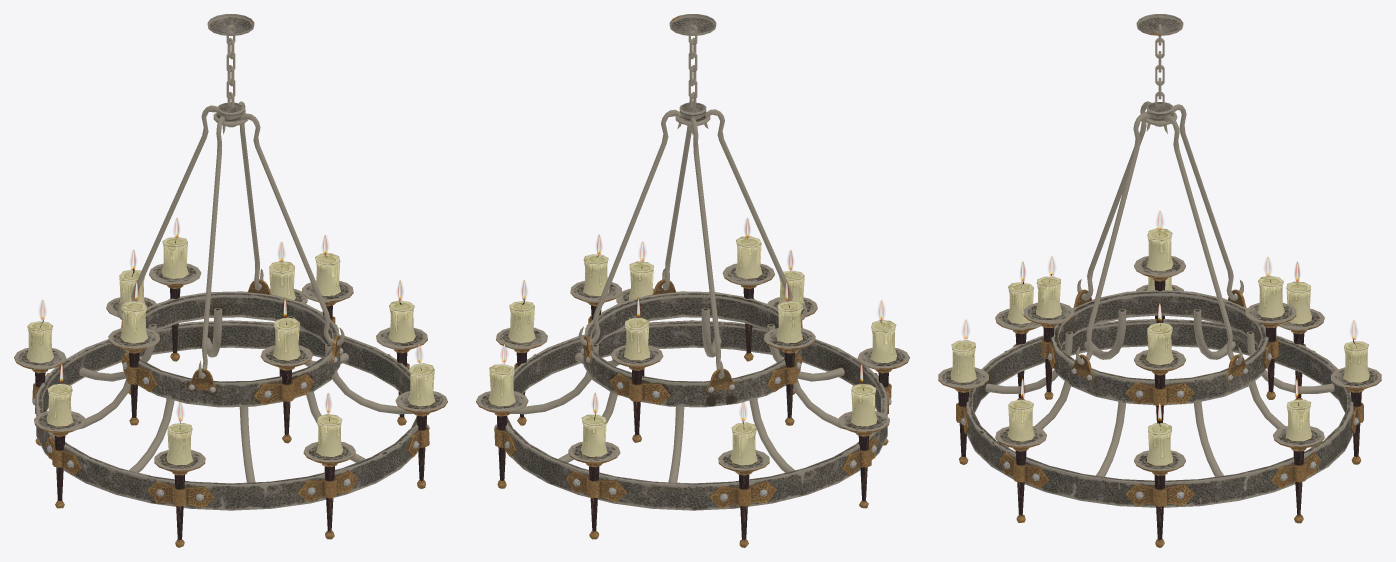
The model's file is chandelier.glb.
3 renders of one model, left to right at view 1: azimuth 30°, elevation 25°; view 2: azimuth 150°, elevation 25°; view 3: azimuth 270°, elevation 25°, orthographic.
Visible parts, largest first — view 1: group42_Chandelier_SHD_0, group42_fire_0; view 2: group42_Chandelier_SHD_0, group42_fire_0; view 3: group42_Chandelier_SHD_0, group42_fire_0.
Boxes of the visible parts, x1,y1,x2,y2 form: group42_Chandelier_SHD_0: (14, 14, 447, 547); group42_fire_0: (40, 218, 421, 421); group42_Chandelier_SHD_0: (476, 14, 909, 547); group42_fire_0: (502, 218, 883, 421); group42_Chandelier_SHD_0: (938, 14, 1381, 547); group42_fire_0: (963, 211, 1356, 421).
Size of the model in its own units: 38.71 by 42.44 by 38.71.
2 materials, 2 textured.
